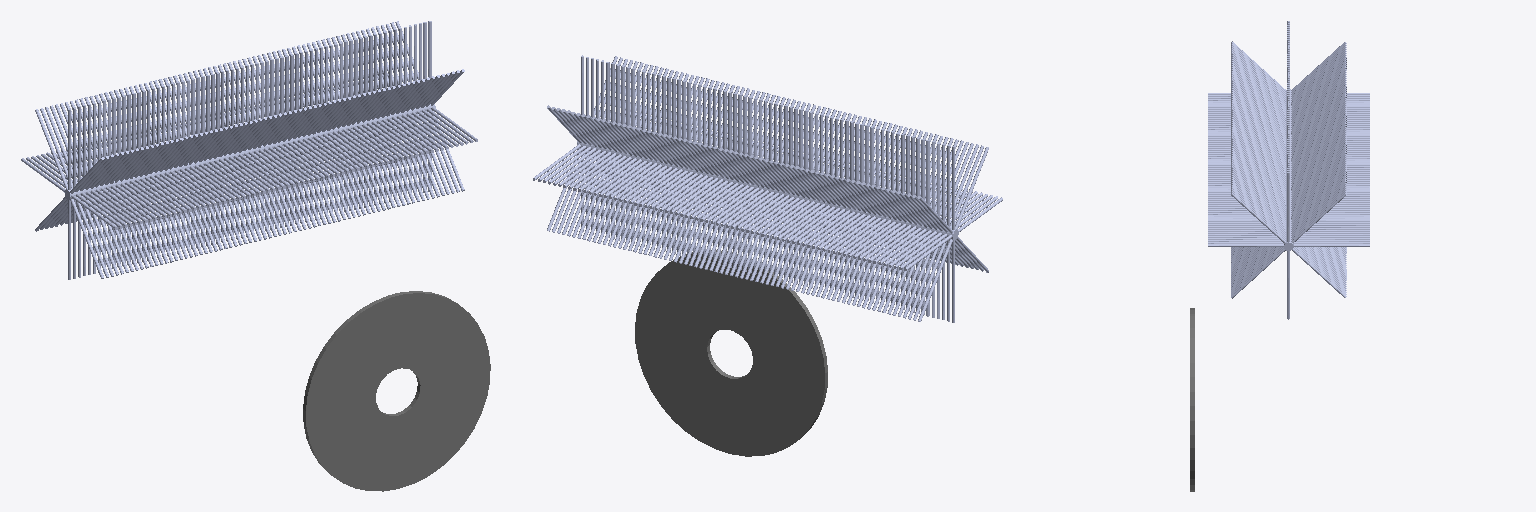
The robot description file, URDF, robot "Machine":
<?xml version="1.0" encoding="utf-8"?>
<!-- This URDF was automatically created by SolidWorks to URDF Exporter! Originally created by [author] ([email redacted]) 
     Commit Version: 1.6.0-4-g7f85cfe  Build Version: 1.6.7995.38578
     For more information, please see http://wiki.ros.org/sw_urdf_exporter -->
<robot
  name="Machine">
  <link
    name="base_link">
    <inertial>
      <origin
        xyz="-0.0597485302559153 0.0141254257572485 0.10587011505937"
        rpy="0 0 0" />
      <mass
        value="11.1719906867681" />
      <inertia
        ixx="0.04208810641191"
        ixy="-2.11662545192861E-06"
        ixz="1.07133003217168E-05"
        iyy="0.165332383660781"
        iyz="-0.000468163154422701"
        izz="0.148542200683734" />
    </inertial>
    <visual>
      <origin
        xyz="0 0 0"
        rpy="0 0 0" />
      <geometry>
        <mesh
          filename="package://Machine/meshes/base_link.STL" />
      </geometry>
      <material
        name="">
        <color
          rgba="0.792156862745098 0.819607843137255 0.933333333333333 1" />
      </material>
    </visual>
    <collision>
      <origin
        xyz="0 0 0"
        rpy="0 0 0" />
      <geometry>
        <mesh
          filename="package://Machine/meshes/base_link.STL" />
      </geometry>
    </collision>
  </link>
  <link
    name="FL">
    <inertial>
      <origin
        xyz="0.209204544317238 -0.0199994631245785 0.130181313522752"
        rpy="0 0 0" />
      <mass
        value="0.0950105711526353" />
      <inertia
        ixx="0.000107921226075878"
        ixy="6.88828333014759E-11"
        ixz="-3.79906739499261E-12"
        iyy="5.982506471029E-05"
        iyz="-2.34793218752515E-10"
        izz="5.98197613250017E-05" />
    </inertial>
    <visual>
      <origin
        xyz="0 0 0"
        rpy="0 0 0" />
      <geometry>
        <mesh
          filename="package://Machine/meshes/FL.STL" />
      </geometry>
      <material
        name="">
        <color
          rgba="0.792156862745098 0.819607843137255 0.933333333333333 1" />
      </material>
    </visual>
    <collision>
      <origin
        xyz="0 0 0"
        rpy="0 0 0" />
      <geometry>
        <mesh
          filename="package://Machine/meshes/FL.STL" />
      </geometry>
    </collision>
  </link>
  <joint
    name="FL"
    type="revolute">
    <origin
      xyz="0 0 0"
      rpy="0 0 0" />
    <parent
      link="base_link" />
    <child
      link="FL" />
    <axis
      xyz="1 0 0" />
    <limit
      lower="0"
      upper="0"
      effort="0"
      velocity="0" />
  </joint>
  <link
    name="BL">
    <inertial>
      <origin
        xyz="0.206514701588705 -0.0186495856631664 -0.139796801941124"
        rpy="0 0 0" />
      <mass
        value="0.0950105634451026" />
      <inertia
        ixx="0.000107921225363599"
        ixy="-9.99597606440713E-12"
        ixz="-6.82954057218283E-11"
        iyy="5.9819853878674E-05"
        iyz="7.32267427284353E-10"
        izz="5.98249714203948E-05" />
    </inertial>
    <visual>
      <origin
        xyz="0 0 0"
        rpy="0 0 0" />
      <geometry>
        <mesh
          filename="package://Machine/meshes/BL.STL" />
      </geometry>
      <material
        name="">
        <color
          rgba="0.792156862745098 0.819607843137255 0.933333333333333 1" />
      </material>
    </visual>
    <collision>
      <origin
        xyz="0 0 0"
        rpy="0 0 0" />
      <geometry>
        <mesh
          filename="package://Machine/meshes/BL.STL" />
      </geometry>
    </collision>
  </link>
  <joint
    name="BL"
    type="revolute">
    <origin
      xyz="0 0 0"
      rpy="0 0 0" />
    <parent
      link="base_link" />
    <child
      link="BL" />
    <axis
      xyz="1 0 0" />
    <limit
      lower="0"
      upper="0"
      effort="0"
      velocity="0" />
  </joint>
  <link
    name="BR">
    <inertial>
      <origin
        xyz="-0.333125105022607 -0.0199996823920332 -0.138583629685712"
        rpy="0 0 0" />
      <mass
        value="0.0950105582252053" />
      <inertia
        ixx="0.000107921224902042"
        ixy="2.17443842261331E-11"
        ixz="6.55008128981638E-11"
        iyy="5.982028852389E-05"
        iyz="1.60325325775966E-09"
        izz="5.98245362975896E-05" />
    </inertial>
    <visual>
      <origin
        xyz="0 0 0"
        rpy="0 0 0" />
      <geometry>
        <mesh
          filename="package://Machine/meshes/BR.STL" />
      </geometry>
      <material
        name="">
        <color
          rgba="0.792156862745098 0.819607843137255 0.933333333333333 1" />
      </material>
    </visual>
    <collision>
      <origin
        xyz="0 0 0"
        rpy="0 0 0" />
      <geometry>
        <mesh
          filename="package://Machine/meshes/BR.STL" />
      </geometry>
    </collision>
  </link>
  <joint
    name="BR"
    type="revolute">
    <origin
      xyz="0 0 0"
      rpy="0 0 0" />
    <parent
      link="base_link" />
    <child
      link="BR" />
    <axis
      xyz="-1 0 0" />
    <limit
      lower="0"
      upper="0"
      effort="0"
      velocity="0" />
  </joint>
  <link
    name="FR">
    <inertial>
      <origin
        xyz="-0.333105988117194 -0.0199992355160392 0.130181886747143"
        rpy="0 0 0" />
      <mass
        value="0.0950105582252047" />
      <inertia
        ixx="0.000107921224902042"
        ixy="-5.20058088810297E-11"
        ixz="4.53714740903841E-11"
        iyy="5.98227586681171E-05"
        iyz="-2.63845071728039E-09"
        izz="5.98220661533625E-05" />
    </inertial>
    <visual>
      <origin
        xyz="0 0 0"
        rpy="0 0 0" />
      <geometry>
        <mesh
          filename="package://Machine/meshes/FR.STL" />
      </geometry>
      <material
        name="">
        <color
          rgba="0.792156862745098 0.819607843137255 0.933333333333333 1" />
      </material>
    </visual>
    <collision>
      <origin
        xyz="0 0 0"
        rpy="0 0 0" />
      <geometry>
        <mesh
          filename="package://Machine/meshes/FR.STL" />
      </geometry>
    </collision>
  </link>
  <joint
    name="FR"
    type="revolute">
    <origin
      xyz="0 0 0"
      rpy="0 0 0" />
    <parent
      link="base_link" />
    <child
      link="FR" />
    <axis
      xyz="-1 0 0" />
    <limit
      lower="0"
      upper="0"
      effort="0"
      velocity="0" />
  </joint>
  <link
    name="Roller">
    <inertial>
      <origin
        xyz="-0.0618941629050713 0.043340442384408 0.182555550312699"
        rpy="0 0 0" />
      <mass
        value="0.353139548782221" />
      <inertia
        ixx="0.000780768429716982"
        ixy="-1.81595071318547E-17"
        ixz="-5.82740117670131E-17"
        iyy="0.00441844542146296"
        iyz="8.73279724082178E-18"
        izz="0.00441844542146295" />
    </inertial>
    <visual>
      <origin
        xyz="0 0 0"
        rpy="0 0 0" />
      <geometry>
        <mesh
          filename="package://Machine/meshes/Roller.STL" />
      </geometry>
      <material
        name="">
        <color
          rgba="0.792156862745098 0.819607843137255 0.933333333333333 1" />
      </material>
    </visual>
    <collision>
      <origin
        xyz="0 0 0"
        rpy="0 0 0" />
      <geometry>
        <mesh
          filename="package://Machine/meshes/Roller.STL" />
      </geometry>
    </collision>
  </link>
  <joint
    name="Roller"
    type="revolute">
    <origin
      xyz="0 0 0"
      rpy="0 0 0" />
    <parent
      link="base_link" />
    <child
      link="Roller" />
    <axis
      xyz="-1 0 0" />
    <limit
      lower="0"
      upper="0"
      effort="0"
      velocity="0" />
  </joint>
  <link
    name="ML">
    <inertial>
      <origin
        xyz="0.0304189041753943 -0.0544952737102189 -0.0327592849498728"
        rpy="0 0 0" />
      <mass
        value="0.129817069335416" />
      <inertia
        ixx="0.000301885474933379"
        ixy="-6.60808010382816E-38"
        ixz="-1.58840351650759E-38"
        iyy="0.000603230045411194"
        iyz="5.64688631502865E-22"
        izz="0.000301885474933379" />
    </inertial>
    <visual>
      <origin
        xyz="0 0 0"
        rpy="0 0 0" />
      <geometry>
        <mesh
          filename="package://Machine/meshes/ML.STL" />
      </geometry>
      <material
        name="">
        <color
          rgba="0.498039215686275 0.498039215686275 0.498039215686275 1" />
      </material>
    </visual>
    <collision>
      <origin
        xyz="0 0 0"
        rpy="0 0 0" />
      <geometry>
        <mesh
          filename="package://Machine/meshes/ML.STL" />
      </geometry>
    </collision>
  </link>
  <joint
    name="ML"
    type="revolute">
    <origin
      xyz="0 0 0"
      rpy="0 0 0" />
    <parent
      link="base_link" />
    <child
      link="ML" />
    <axis
      xyz="0 -1 0" />
    <limit
      lower="0"
      upper="0"
      effort="0"
      velocity="0" />
  </joint>
  <link
    name="MR">
    <inertial>
      <origin
        xyz="-0.159848061503955 -0.0535340956726708 -0.032114317310548"
        rpy="0 0 0" />
      <mass
        value="0.129817069335416" />
      <inertia
        ixx="0.000301885474933379"
        ixy="-6.60808010382816E-38"
        ixz="-1.58840351650759E-38"
        iyy="0.000603230045411194"
        iyz="5.64688631502866E-22"
        izz="0.000301885474933379" />
    </inertial>
    <visual>
      <origin
        xyz="0 0 0"
        rpy="0 0 0" />
      <geometry>
        <mesh
          filename="package://Machine/meshes/MR.STL" />
      </geometry>
      <material
        name="">
        <color
          rgba="0.498039215686275 0.498039215686275 0.498039215686275 1" />
      </material>
    </visual>
    <collision>
      <origin
        xyz="0 0 0"
        rpy="0 0 0" />
      <geometry>
        <mesh
          filename="package://Machine/meshes/MR.STL" />
      </geometry>
    </collision>
  </link>
  <joint
    name="MR"
    type="revolute">
    <origin
      xyz="0 0 0"
      rpy="0 0 0" />
    <parent
      link="base_link" />
    <child
      link="MR" />
    <axis
      xyz="0 -1 0" />
    <limit
      lower="0"
      upper="0"
      effort="0"
      velocity="0" />
  </joint>
</robot>

--- Facts derived from the render (not from the file) ---
The picture shows the robot from 3 angles, left to right: view 1: azimuth 30°, elevation 25°; view 2: azimuth 150°, elevation 25°; view 3: azimuth 270°, elevation 25°; orthographic projection.
Model Machine with 8 links and 7 joints (7 revolute), rooted at base_link, posed all joints at 0.
Links seen in each view (by area): view 1: Roller, ML; view 2: Roller, ML; view 3: Roller, ML.
Link boxes in pixels (box(x1,y1,x2,y2)): Roller: box(21, 21, 477, 279); ML: box(303, 291, 490, 491); Roller: box(533, 55, 1002, 322); ML: box(635, 250, 827, 456); Roller: box(1208, 21, 1369, 319); ML: box(1190, 308, 1194, 491).
Size in the robot's own frame: 0.3706 by 0.1827 by 0.3914 metres.
2 mesh visuals loaded from 8 distinct referenced files (2 binary STL); not drawn: 6 (reference not matched to a file when rendering).